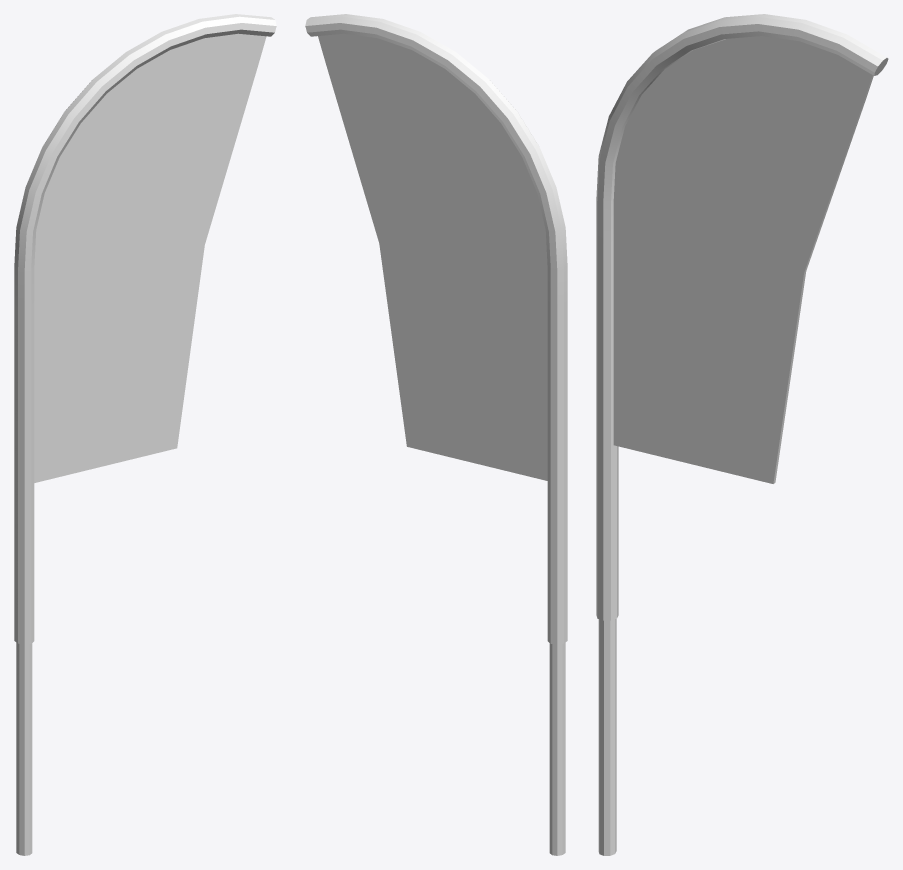
File: flag1.FBX
3 renders of one model, left to right at view 1: azimuth 30°, elevation 25°; view 2: azimuth 150°, elevation 25°; view 3: azimuth 330°, elevation 25°, orthographic. The views are drawn at different scales.
Parts seen in each view (by area): view 1: flag_pCylinder002; view 2: flag_pCylinder002; view 3: flag_pCylinder002.
Boxes of the visible parts, x1,y1,x2,y2 form: flag_pCylinder002: (14,14,276,855); flag_pCylinder002: (305,14,567,855); flag_pCylinder002: (596,14,888,855).
Bounding box in the file's own units: 553 × 40.06 × 1621.
